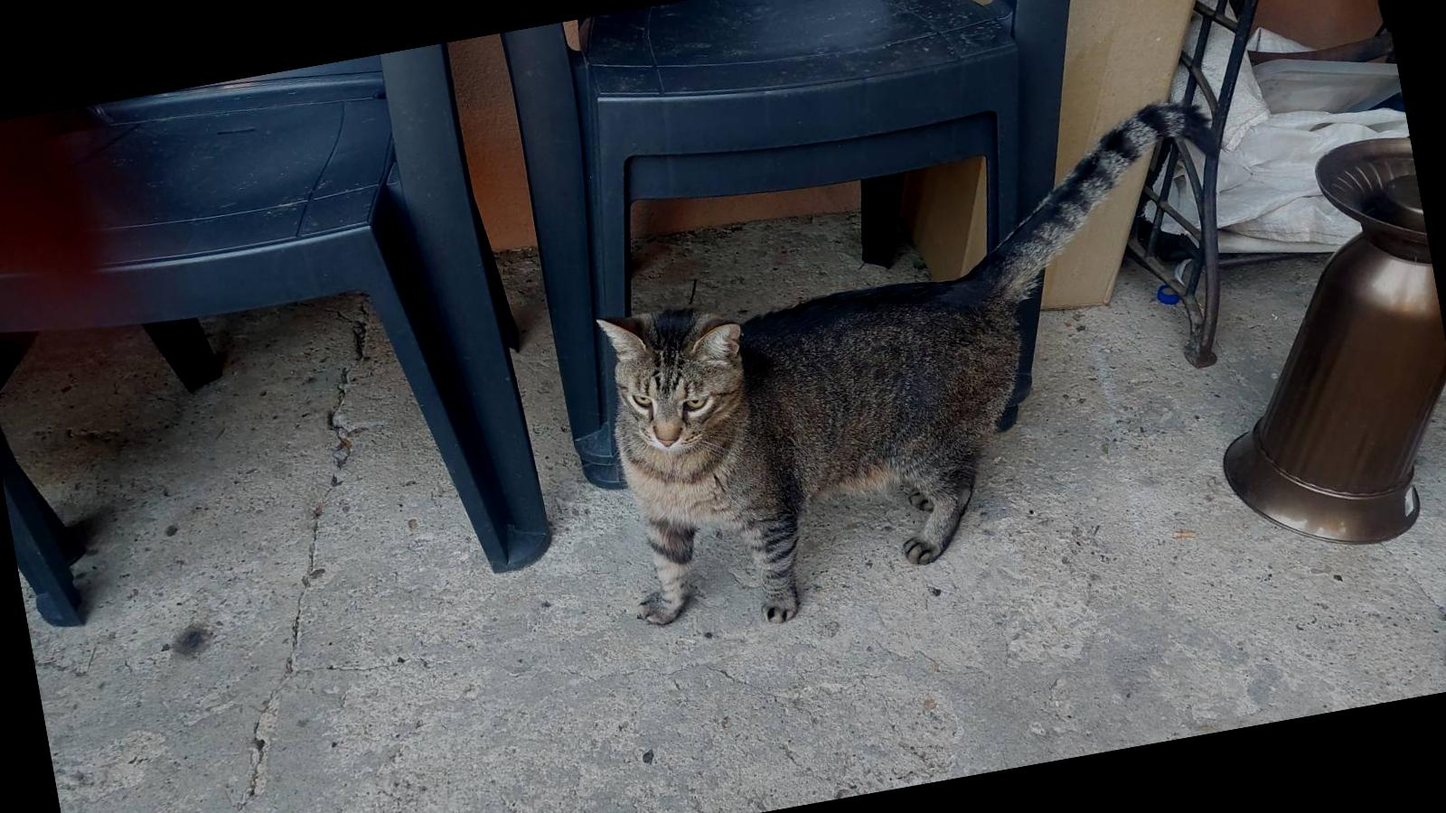macka: (567, 93, 1280, 649)
